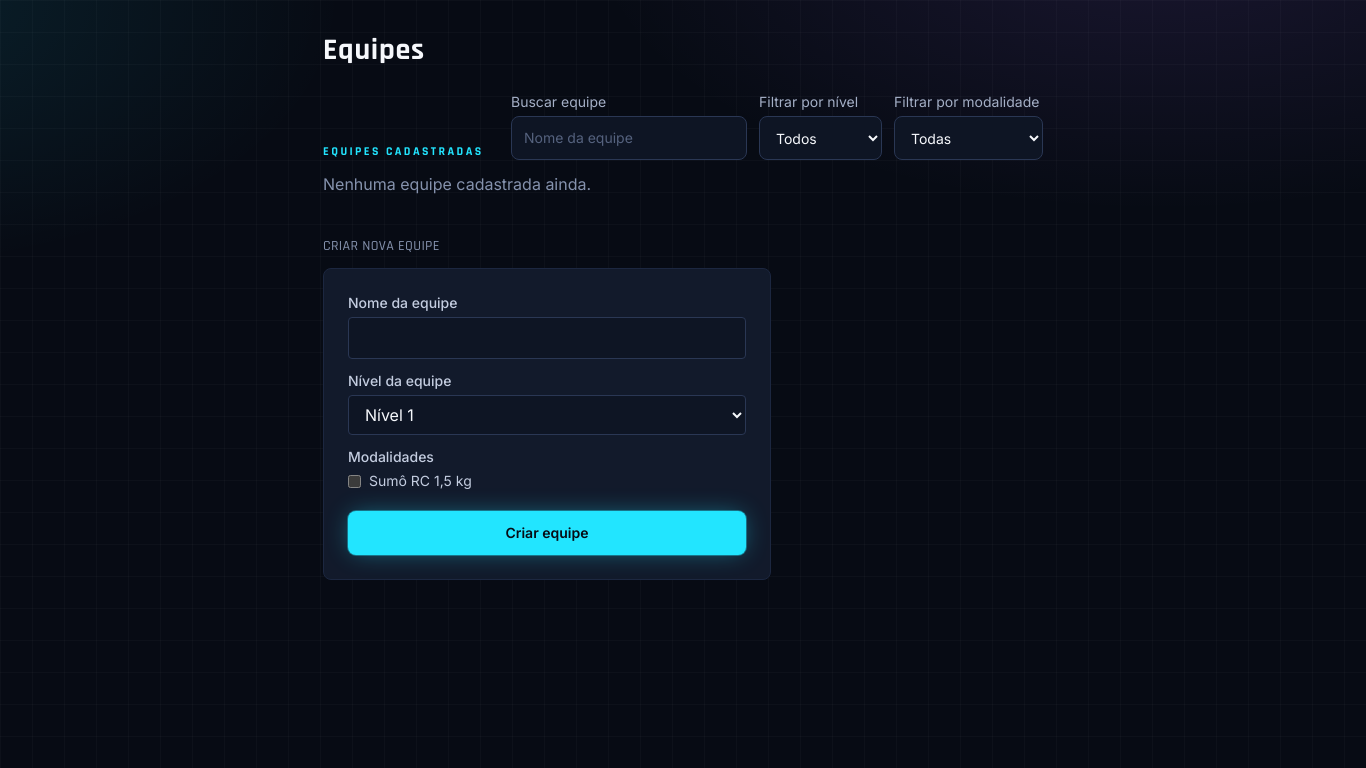
Test: EquipeListPage › formulario de criar equipe mostra so as modalidades compativeis com o nivel selecionado
This screenshot has width=1366, height=768.
Expected: the button "Criar equipe" is shown, top-left (348, 511), bottom-right (746, 555)
Expected: the checkbox labelled "Sumô RC 1,5 kg" is shown, top-left (348, 474), bottom-right (361, 488)
Select "Nível 2" in the dropdown labelled "Nível da equipe" at (547, 415), box top-left (348, 395), bottom-right (746, 435)
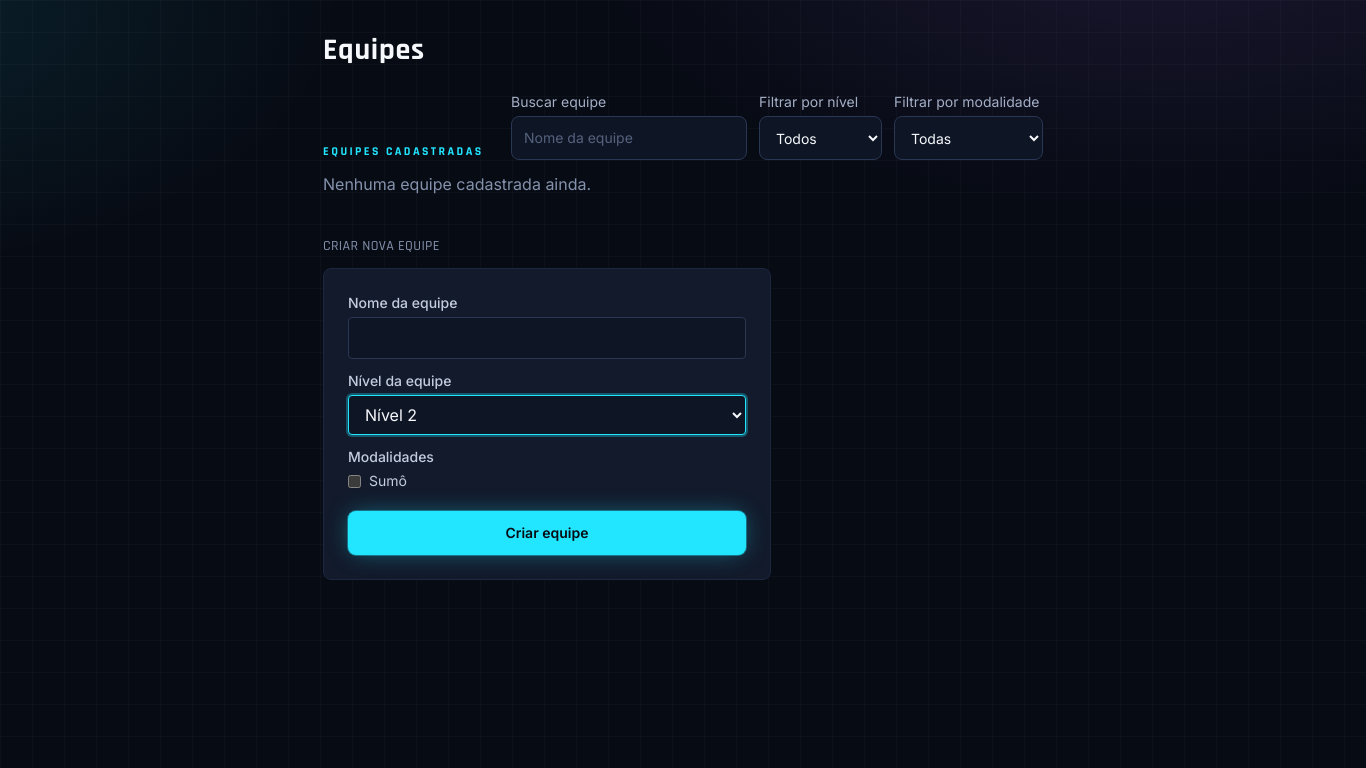
Expected: the checkbox labelled "Sumô" is shown, top-left (348, 474), bottom-right (361, 488)
Expected: the label labelled "Sumô RC 1,5 kg" is gone
